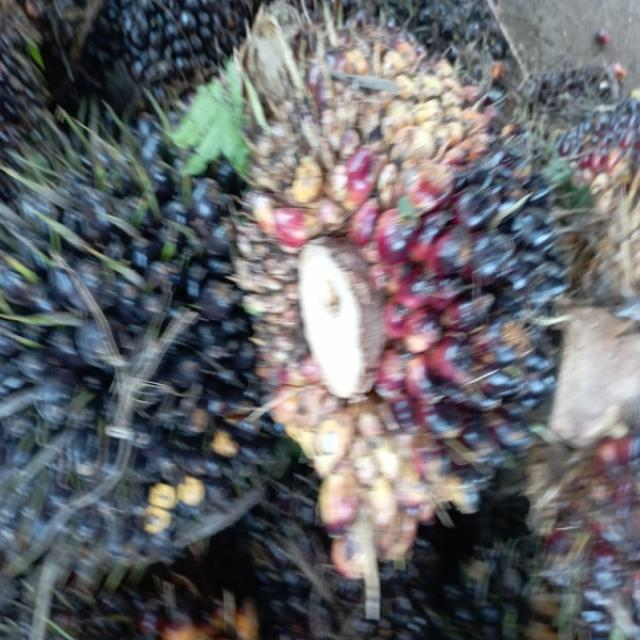fraksi 1: (212, 34, 590, 586)
